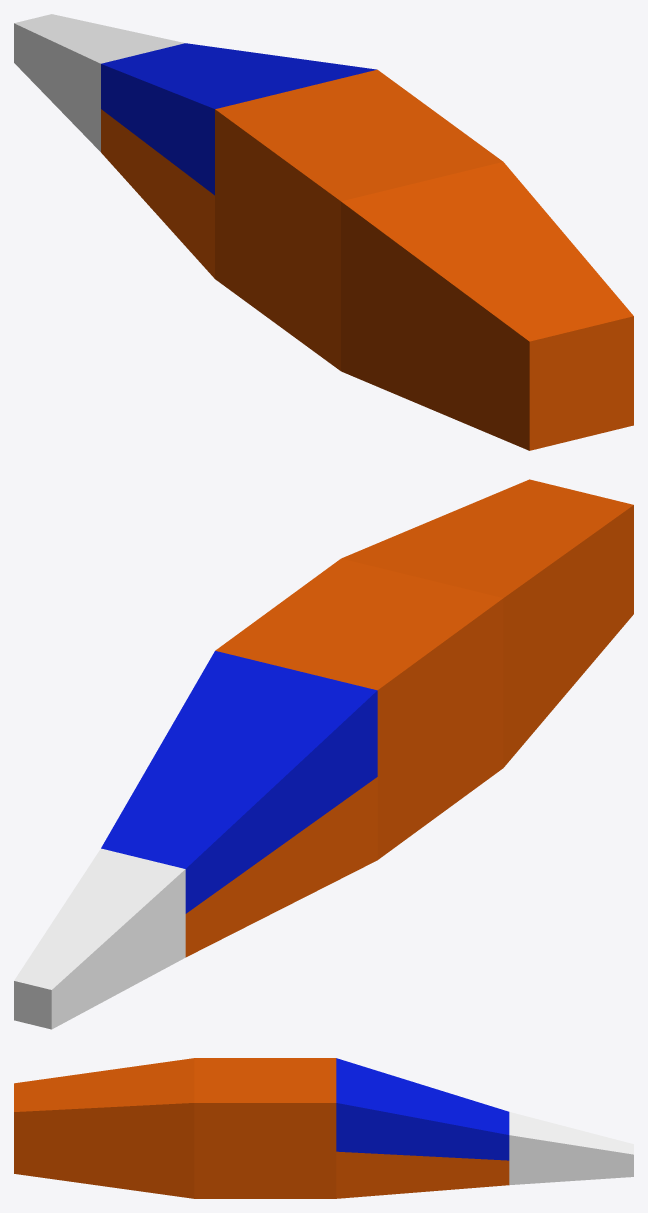
The model's file is ship2.gltf.
The picture shows the model from 3 angles, top to bottom: view 1: azimuth 30°, elevation 25°; view 2: azimuth 150°, elevation 25°; view 3: azimuth 270°, elevation 25°; orthographic projection. The views are drawn at different scales.
Visible parts, largest first — view 1: Fuselage; view 2: Fuselage; view 3: Fuselage.
Boxes of the visible parts, x1,y1,x2,y2 form: Fuselage: [14, 14, 633, 450]; Fuselage: [14, 479, 633, 1029]; Fuselage: [14, 1058, 633, 1198].
Bounding box in the file's own units: 2 × 2 × 11.71.
